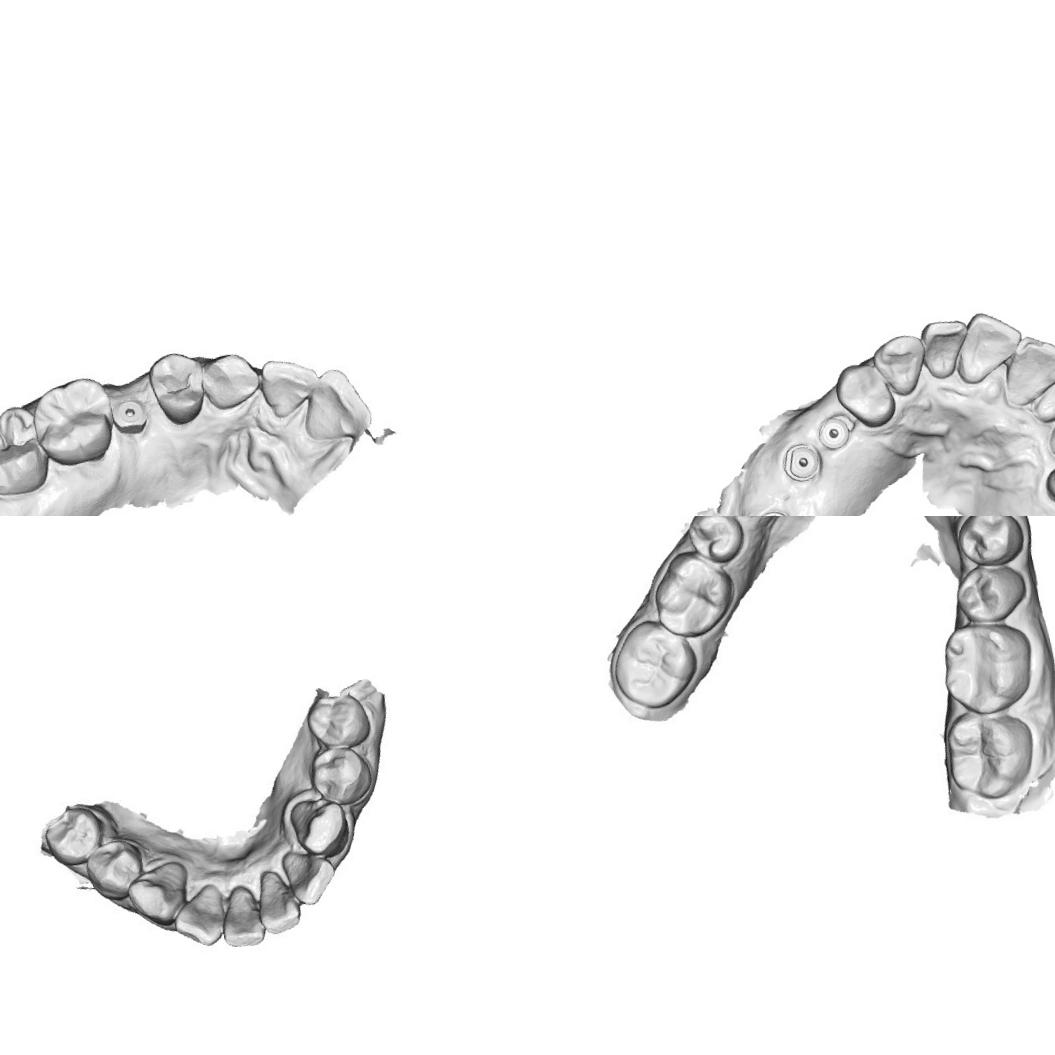canine: (122, 858, 198, 930), (286, 792, 358, 862), (865, 328, 934, 401), (196, 346, 264, 414), (1039, 391, 1055, 464)
implant: (776, 436, 828, 488), (812, 410, 853, 454), (109, 394, 150, 435)
implant_minus: (745, 503, 798, 516)
incisor: (293, 362, 373, 448), (951, 304, 1028, 385), (253, 348, 323, 422), (166, 882, 233, 954), (912, 310, 976, 384), (250, 866, 311, 940), (999, 326, 1055, 401), (212, 882, 268, 951), (282, 845, 340, 910), (1026, 358, 1055, 424)
molar: (604, 611, 706, 719), (938, 707, 1038, 808), (940, 621, 1036, 722), (25, 370, 118, 470), (650, 552, 734, 640), (0, 400, 53, 503)
premolar: (142, 344, 212, 429), (36, 794, 110, 870), (952, 556, 1026, 630), (828, 356, 898, 433), (298, 685, 373, 755), (306, 740, 376, 810), (84, 834, 150, 900), (952, 516, 1029, 569), (683, 516, 744, 565), (1036, 447, 1055, 514)
